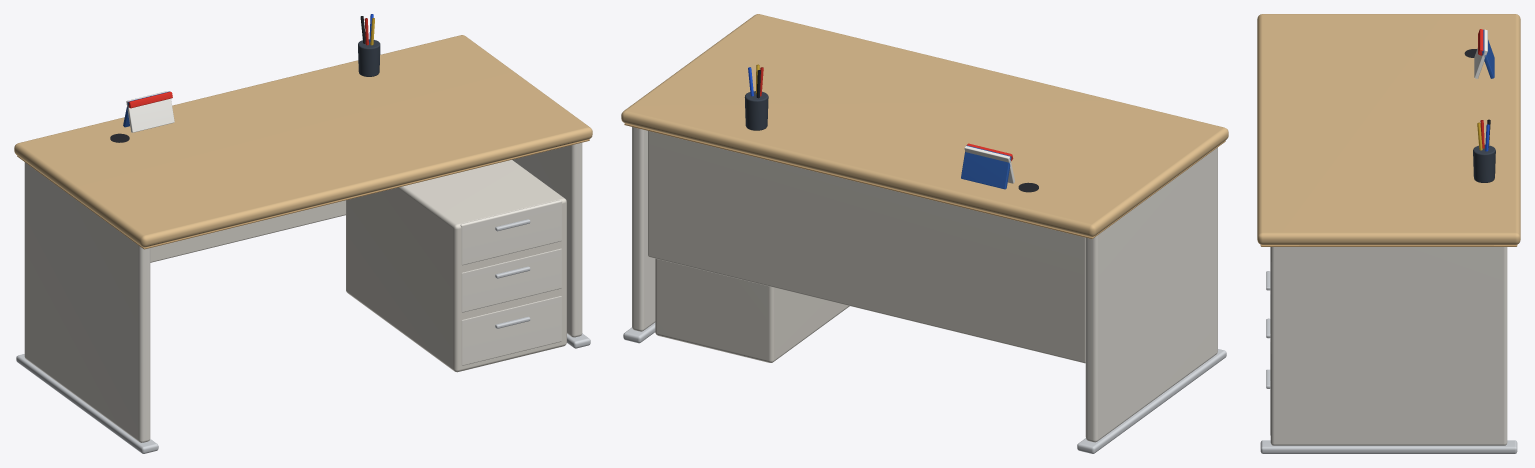
The model's file is desk.glb.
3 views of the same model, side by side, from view 1: azimuth 30°, elevation 25°; view 2: azimuth 150°, elevation 25°; view 3: azimuth 270°, elevation 25° (orthographic). The views are drawn at different scales.
Visible parts, largest first — view 1: Cube, Cube.002, Cube.006, Cube.003, Cube.001, Cube.014, Cone.001; view 2: Cube.006, Cube, Cube.002, Cube.003, Cube.001, Cube.015, Cone.001; view 3: Cube, Cube.002, Cube.003, Cone.001, Cube.001, Cube.014, Cube.015.
Part boxes in pixels (x1,y1,x2,y2): Cube: [14, 35, 592, 247]; Cube.002: [24, 142, 582, 442]; Cube.006: [150, 160, 566, 372]; Cube.003: [16, 219, 590, 453]; Cube.001: [17, 139, 589, 249]; Cube.014: [126, 91, 174, 132]; Cone.001: [358, 39, 380, 76]; Cube.006: [648, 131, 1085, 363]; Cube: [621, 14, 1228, 236]; Cube.002: [632, 127, 1217, 442]; Cube.003: [623, 322, 1226, 453]; Cube.001: [624, 123, 1225, 238]; Cube.015: [961, 145, 1011, 189]; Cone.001: [744, 91, 768, 130]; Cube: [1257, 14, 1520, 244]; Cube.002: [1270, 247, 1507, 445]; Cube.003: [1260, 271, 1517, 453]; Cone.001: [1473, 145, 1495, 182]; Cube.001: [1260, 244, 1517, 246]; Cube.014: [1474, 29, 1487, 78]; Cube.015: [1482, 29, 1494, 78].
Size of the model in its own units: 1.6 by 0.9302 by 0.8.
